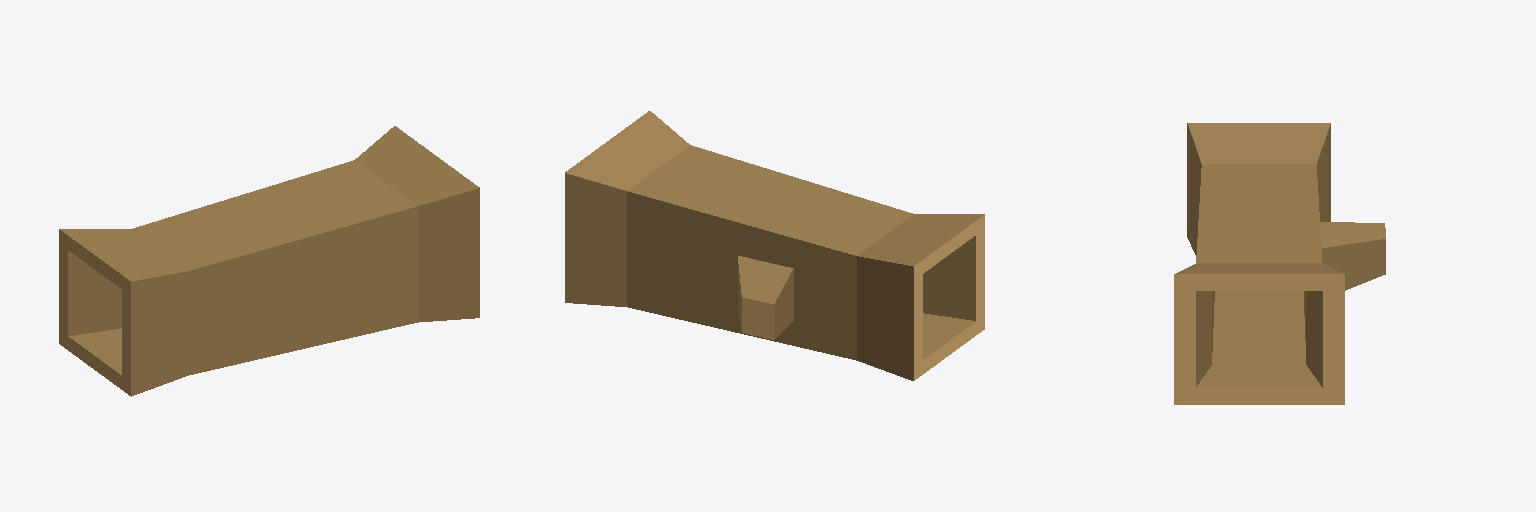
The model's file is Fallen_Trunk_01.obj.
3 renders of one model, left to right at view 1: azimuth 30°, elevation 25°; view 2: azimuth 150°, elevation 25°; view 3: azimuth 270°, elevation 25°, orthographic.
Parts seen in each view (by area): view 1: Mesh1_Fallen_Trunk_Model; view 2: Mesh1_Fallen_Trunk_Model; view 3: Mesh1_Fallen_Trunk_Model.
Part boxes in pixels (x1,y1,x2,y2): Mesh1_Fallen_Trunk_Model: (59, 126, 479, 396); Mesh1_Fallen_Trunk_Model: (565, 111, 984, 380); Mesh1_Fallen_Trunk_Model: (1174, 123, 1385, 404).
Bounding box in the file's own units: 2.19 × 0.7952 × 1.18.